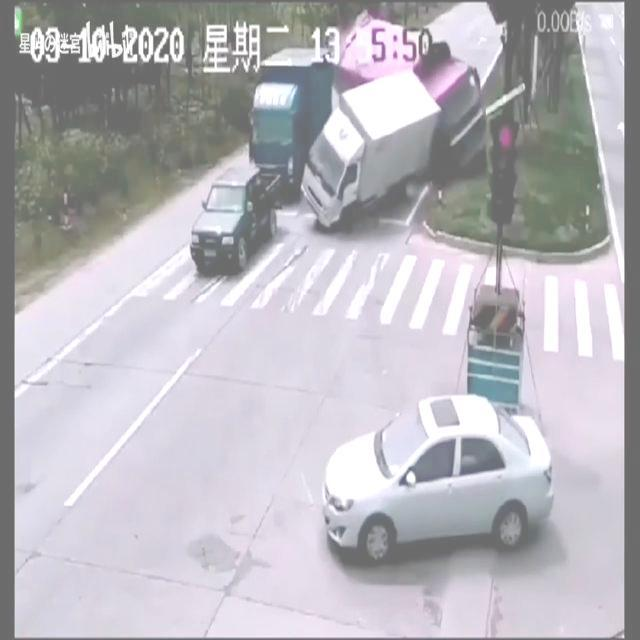accident: (250, 11, 488, 233)
